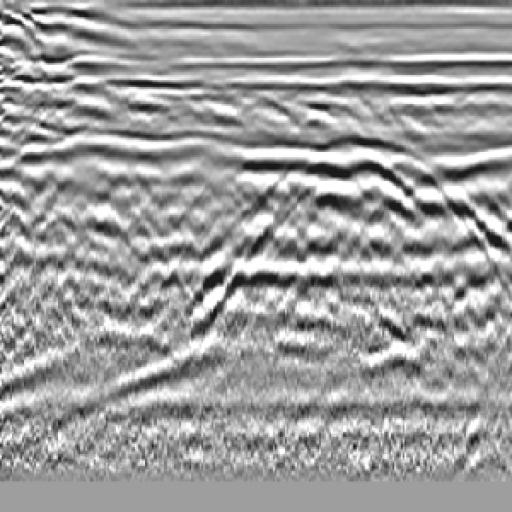non-metallic: (175, 114, 512, 371)
